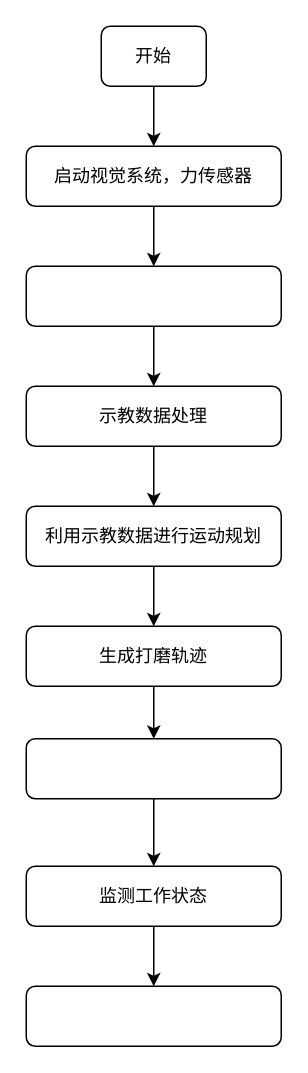
Some shapes in this 308 by 1073 pixel diagram are drawn without their labels. The centre of each missing label's shape, as x and y in pixels:
开始打磨: the point at 153,768
结束: the point at 153,1015
采集示教数据: the point at 153,295
